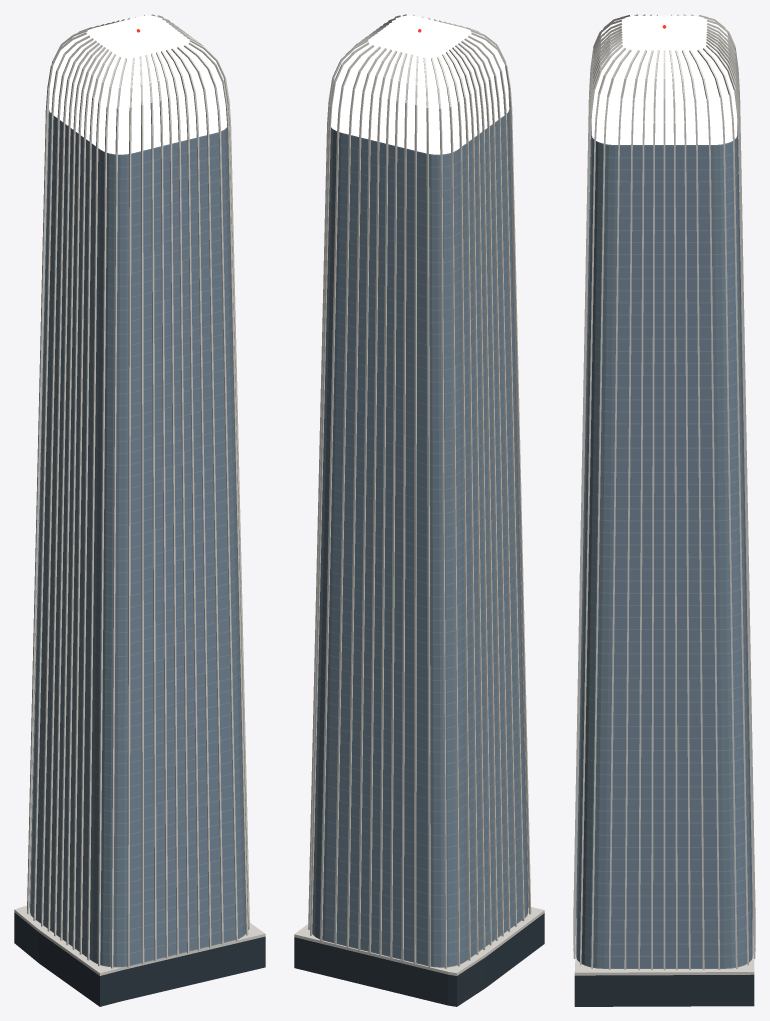
Rendered from 415-mission.glb.
3 renders of one model, left to right at view 1: azimuth 30°, elevation 25°; view 2: azimuth 150°, elevation 25°; view 3: azimuth 270°, elevation 25°, orthographic.
Visible parts, largest first — view 1: tower, crown_lights; view 2: tower, crown_lights; view 3: tower, crown_lights.
Part boxes in pixels (x1,y1,x2,y2): tower: (14,14,265,1006); crown_lights: (49,15,227,154); tower: (294,14,544,1006); crown_lights: (331,15,509,154); tower: (573,14,755,1006); crown_lights: (591,15,737,144).
Size of the model in its own units: 61.65 by 329 by 57.91.
